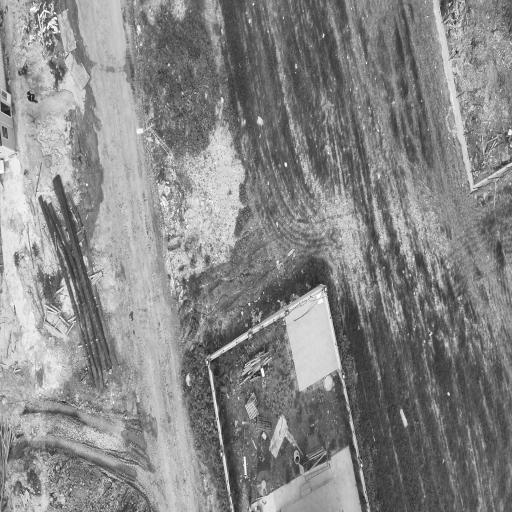person: (26, 91, 36, 102)
